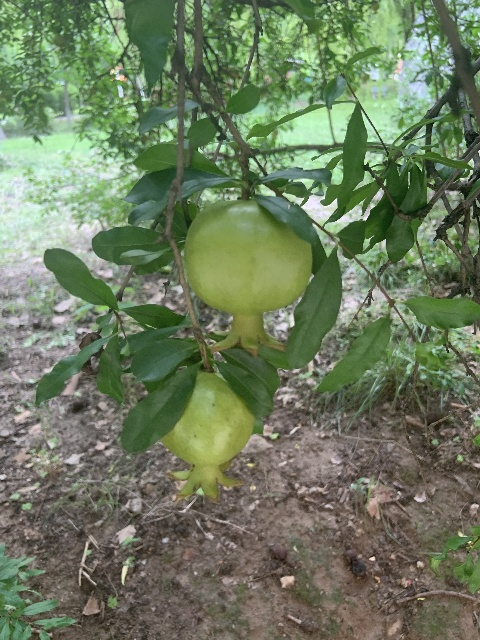mid-growth: (181, 198, 313, 357), (160, 371, 254, 504)
